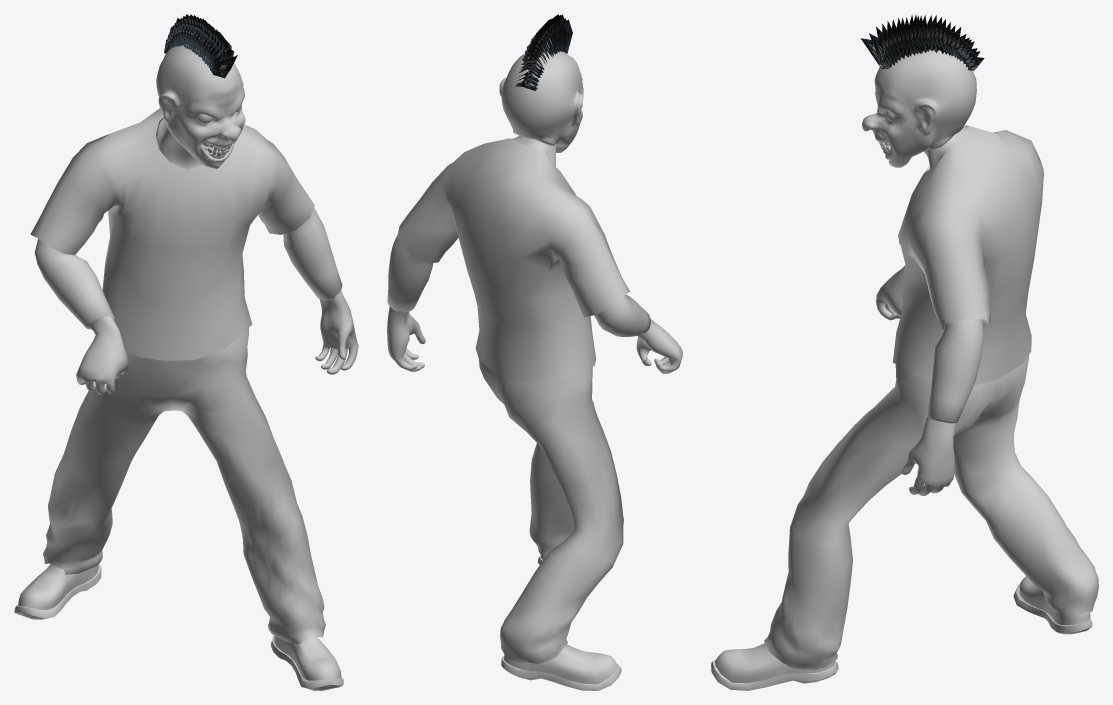
Rendered from Attack01 (51).obj.
3 renders of one model, left to right at view 1: azimuth 30°, elevation 25°; view 2: azimuth 150°, elevation 25°; view 3: azimuth 270°, elevation 25°, orthographic. The views are drawn at different scales.
Parts seen in each view (by area): view 1: shirt, pants, head, forearm_band_01, forearm_band_002, boots, hand_right, boots001, hand_left, Hair, neck; view 2: shirt, pants, head, boots, forearm_band_002, Hair, hand_left, forearm_band_01, hand_right; view 3: pants, shirt, head, forearm_band_002, Hair, boots001, hand_left, boots, hand_right.
Part boxes in pixels (x1,y1,x2,y2): shirt: (30,108,314,360); pants: (43,328,325,643); head: (156,45,245,169); forearm_band_01: (34,239,115,329); forearm_band_002: (283,208,342,300); boots: (14,564,101,619); hand_right: (76,316,128,394); boots001: (270,635,343,690); hand_left: (315,290,358,374); Hair: (164,14,237,78); neck: (157,118,201,169); shirt: (397,138,629,383); pants: (479,359,623,663); head: (499,51,583,152); boots: (501,644,621,690); forearm_band_002: (387,235,433,312); Hair: (515,14,572,90); hand_left: (387,306,425,371); forearm_band_01: (594,294,650,336); hand_right: (636,319,682,373); pants: (764,355,1098,669); shirt: (892,125,1043,385); head: (862,50,976,167); forearm_band_002: (926,318,983,423); Hair: (861,15,984,70); boots001: (711,643,838,690); hand_left: (901,417,956,495); boots: (1013,576,1092,634); hand_right: (876,266,904,320).
Bounding box in the file's own units: 89.63 × 182 × 98.4.
